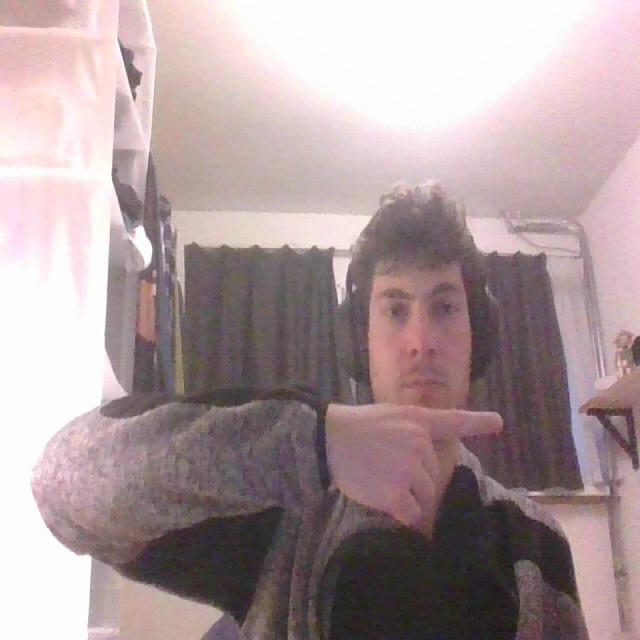right: (322, 390, 509, 536)
